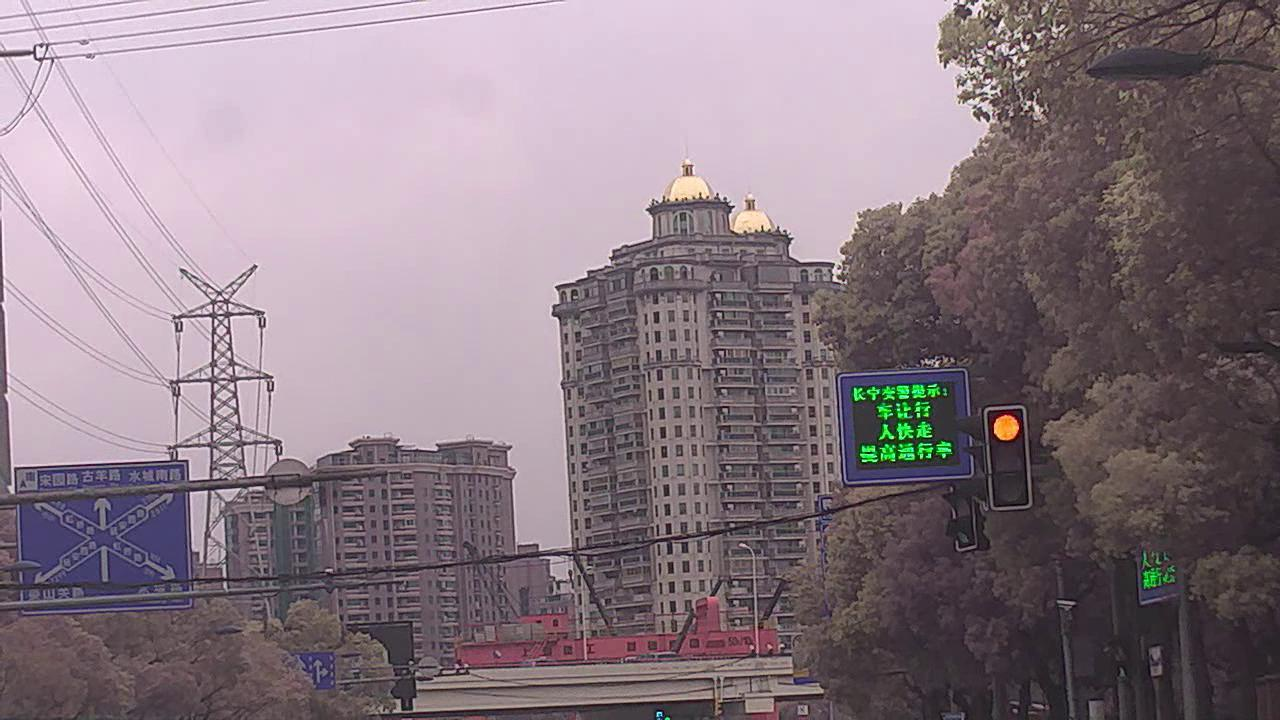traffic_light: (982, 406, 1034, 511)
